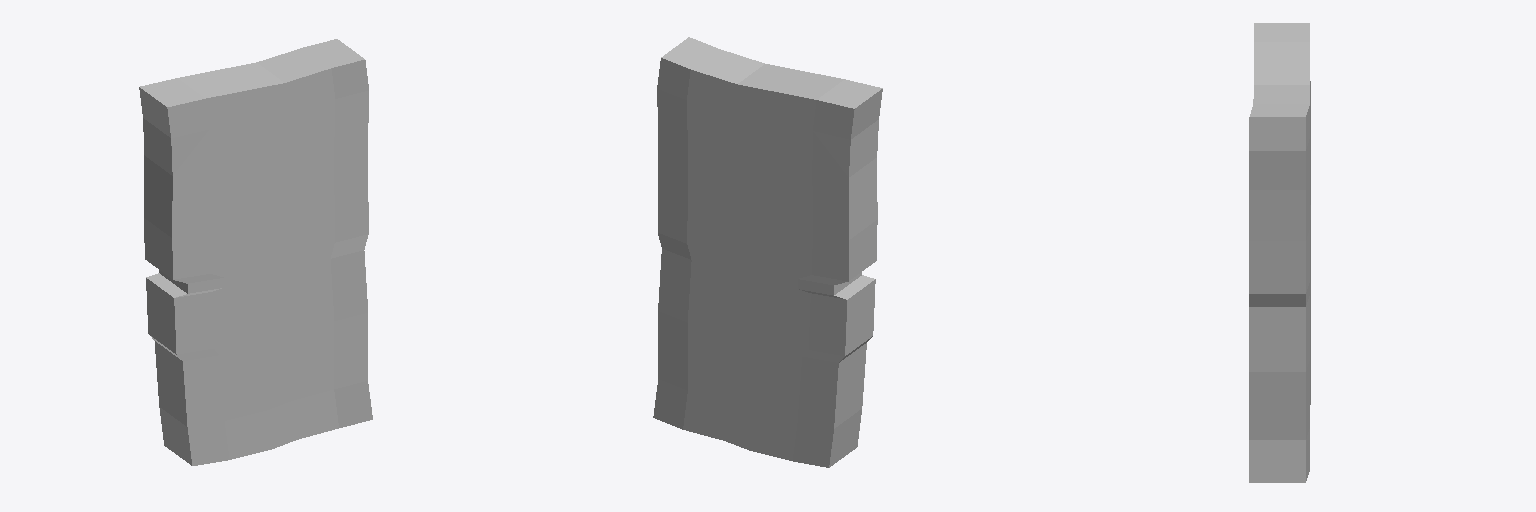
The model's file is modified_mesh_sajay.obj.
The picture shows the model from 3 angles: view 1: azimuth 30°, elevation 25°; view 2: azimuth 150°, elevation 25°; view 3: azimuth 270°, elevation 25°; orthographic projection.
Parts seen in each view (by area): view 1: outside, dining_room, living_room, kitchen, bedroom, bathroom, door; view 2: outside, dining_room, living_room, kitchen, bedroom, bathroom, door; view 3: outside.
Part boxes in pixels (x1,y1,x2,y2): outside: (139,39,372,465); dining_room: (209,151,334,277); living_room: (220,322,333,420); kitchen: (211,259,333,354); bedroom: (209,114,288,169); bathroom: (289,139,333,200); door: (225,246,284,305); outside: (653,37,882,467); dining_room: (687,152,812,278); living_room: (688,323,801,421); kitchen: (688,260,810,355); bedroom: (733,115,812,170); bathroom: (688,140,733,202); door: (738,247,797,306); outside: (1249,23,1310,482).
Bounding box in the file's own units: 11.9 × 20.66 × 3.1.